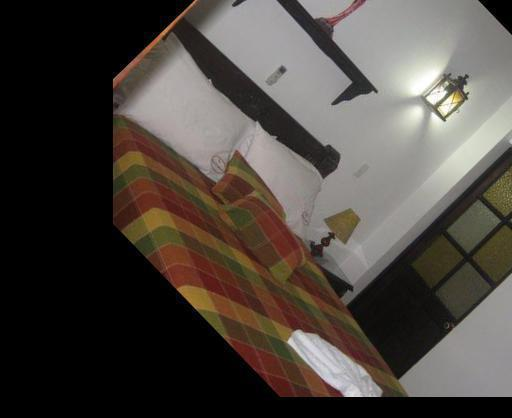Puerta: (339, 150, 512, 382)
